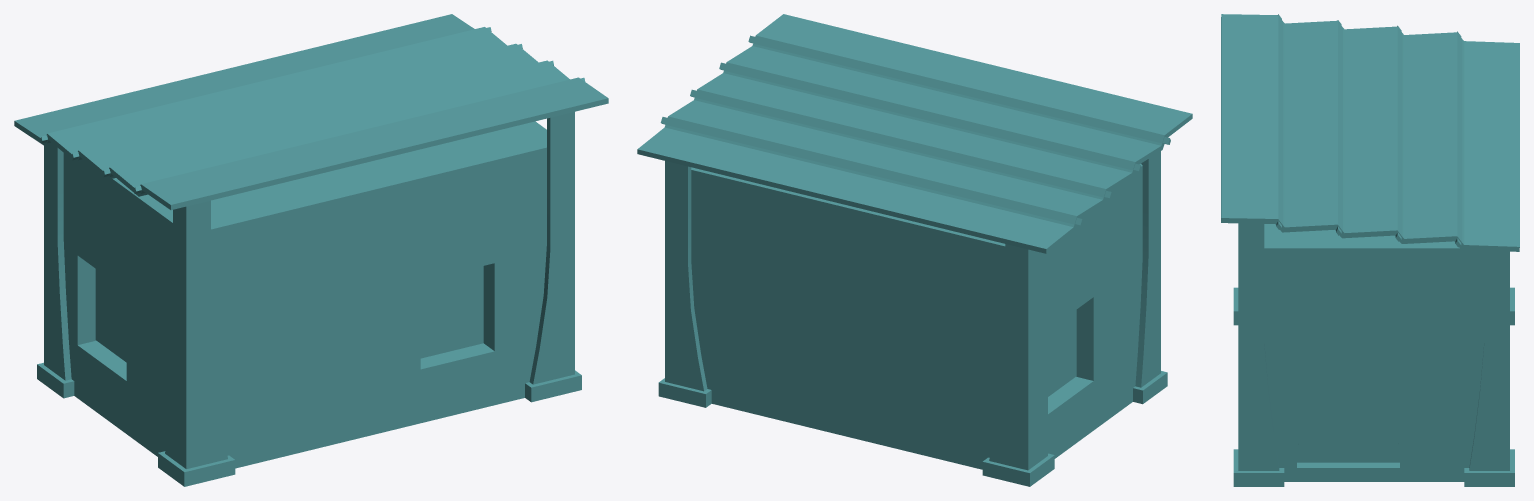
Rendered from House_Stone.fbx.
3 renders of one model, left to right at view 1: azimuth 30°, elevation 25°; view 2: azimuth 150°, elevation 25°; view 3: azimuth 270°, elevation 25°, orthographic. The views are drawn at different scales.
Visible parts, largest first — view 1: StoneHouse; view 2: StoneHouse; view 3: StoneHouse.
Part boxes in pixels (x1,y1,x2,y2): StoneHouse: (14, 14, 608, 486); StoneHouse: (637, 14, 1192, 486); StoneHouse: (1221, 14, 1519, 486).
Bounding box in the file's own units: 898 × 557 × 542.
